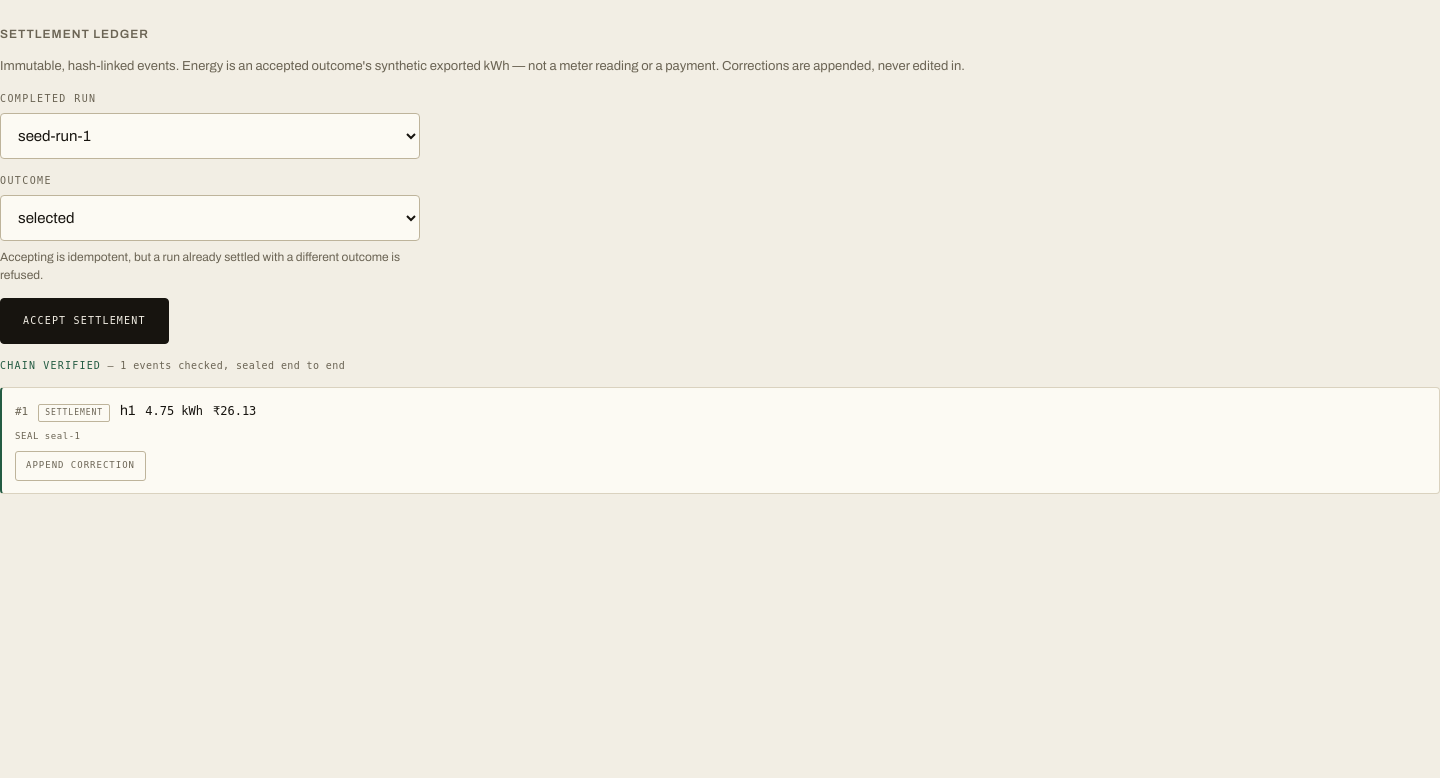
Scenario: LedgerPanel corrections › requires a reason
Click the button "APPEND CORRECTION".
click(80, 466)  # box [15,451,146,480]
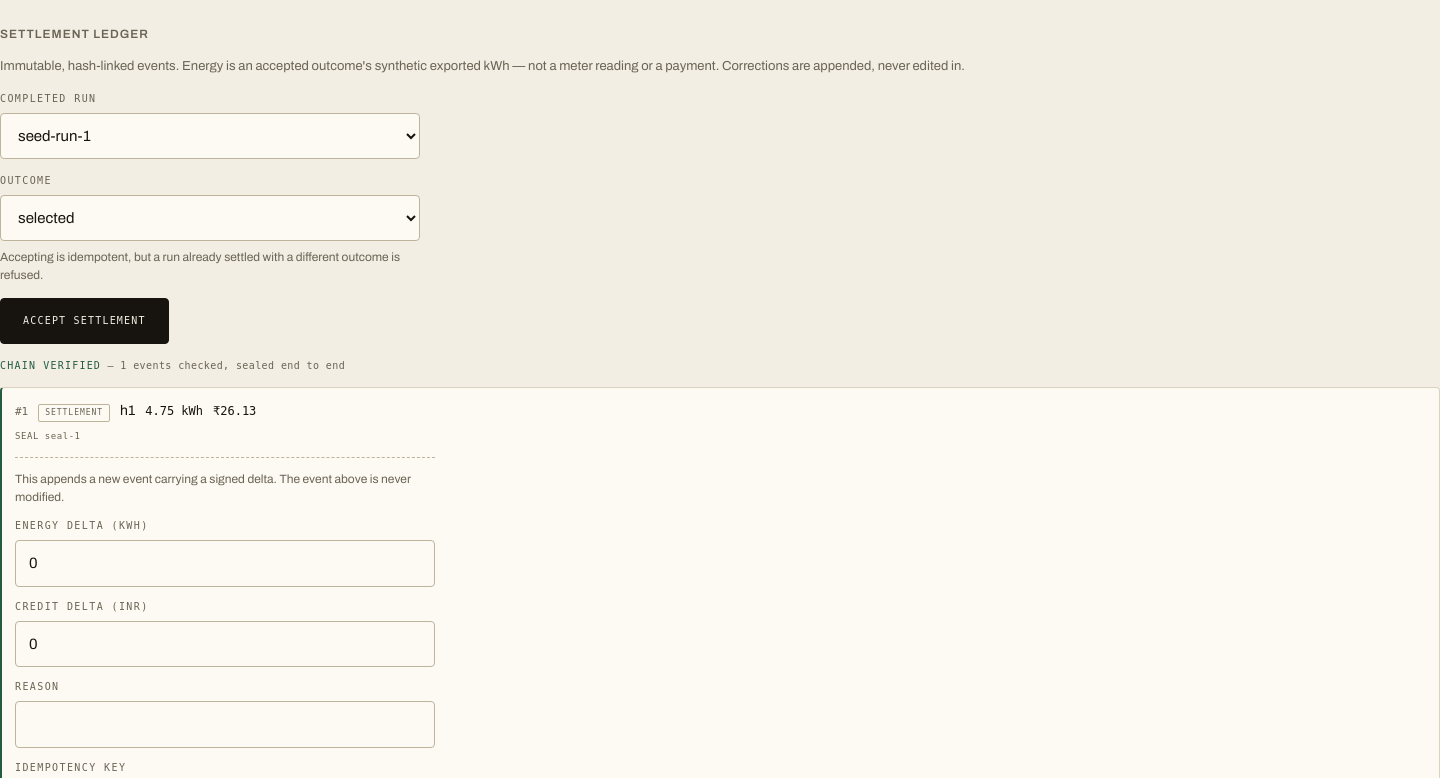
Replace the text in the number field labelled "ENERGY DELTA (KWH)" with "-0.5" at (225, 563), box [15,540,435,586]
(page scrolled)
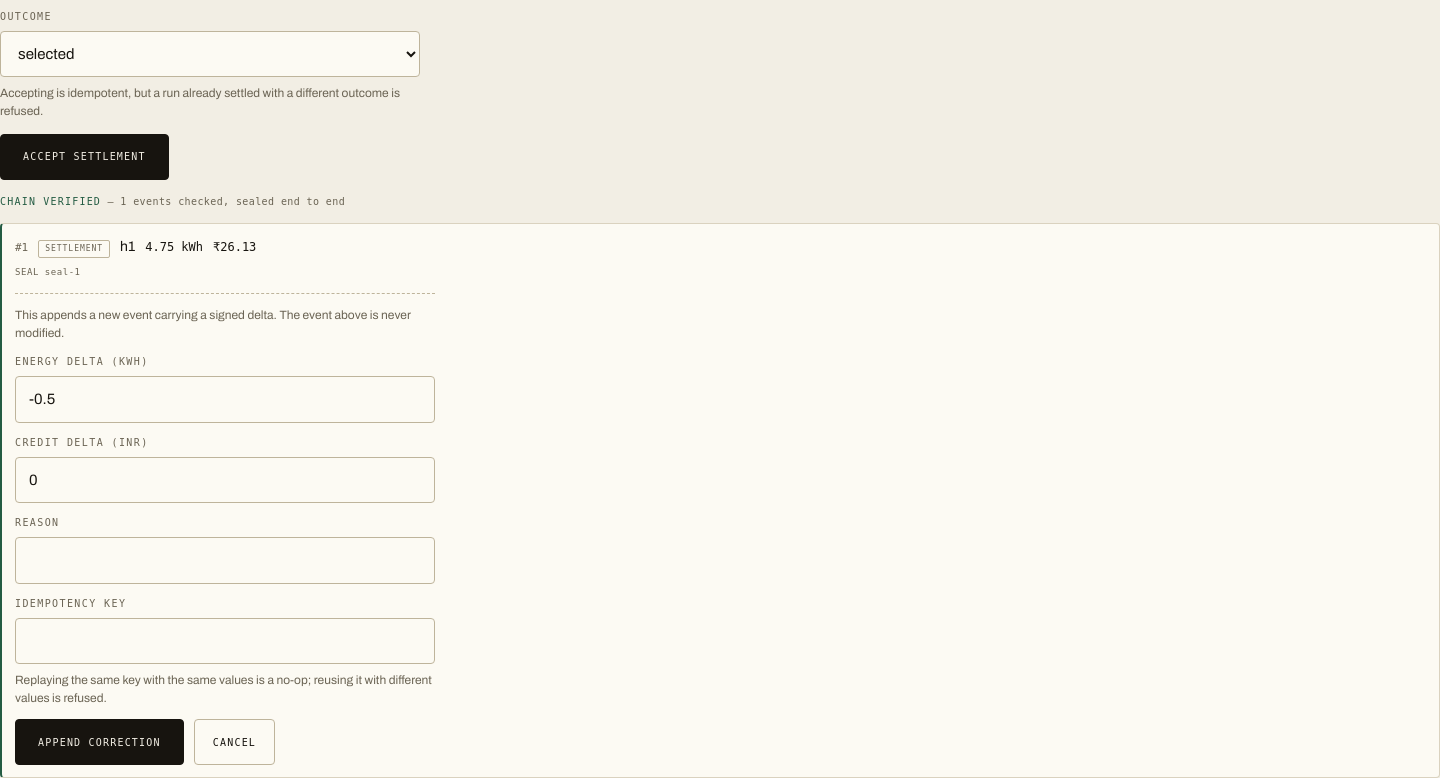
Click the button "APPEND CORRECTION".
click(99, 742)  # box [15,719,184,765]
(page scrolled)
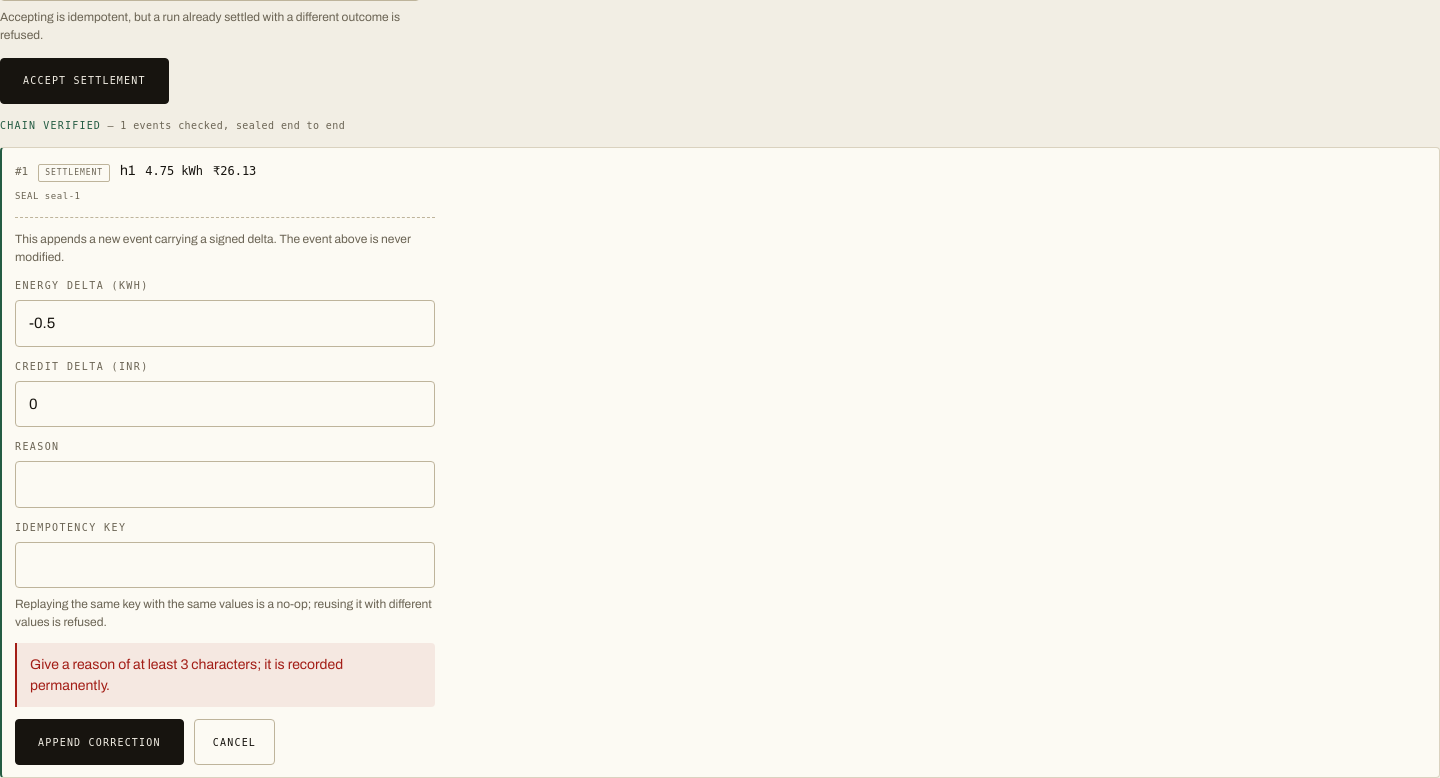
Now the message shows "reason", box [30,657,343,693]
